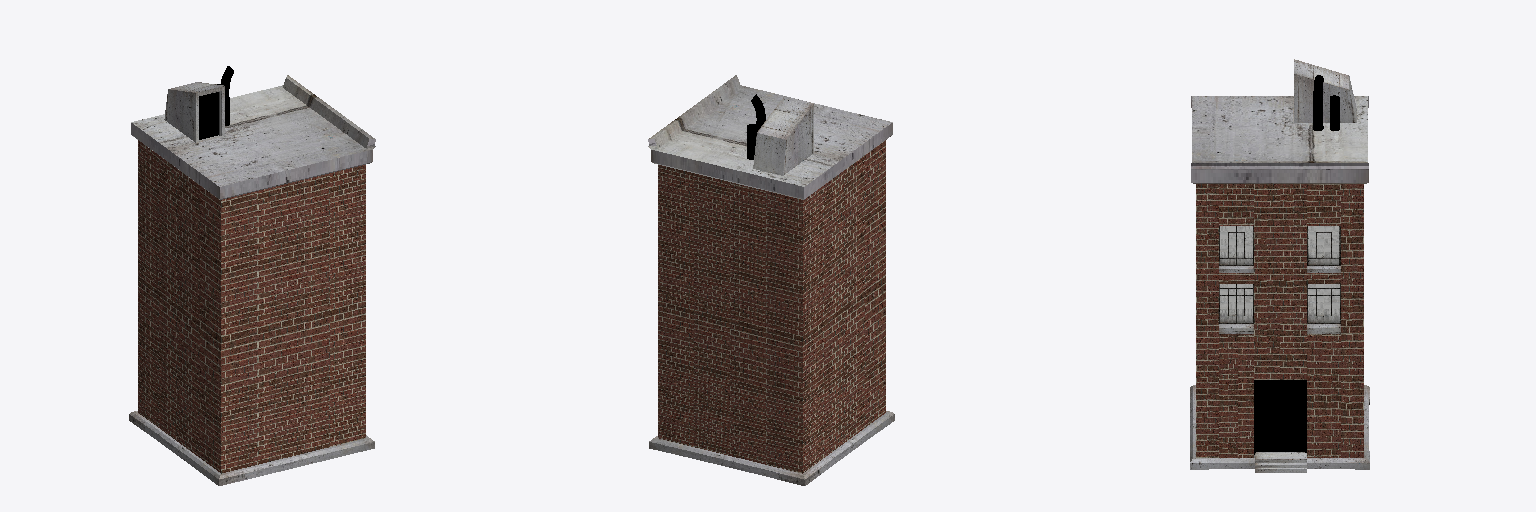
3 views of the same model, side by side, from view 1: azimuth 30°, elevation 25°; view 2: azimuth 150°, elevation 25°; view 3: azimuth 270°, elevation 25° (orthographic).
Parts seen in each view (by area): view 1: pCube26; view 2: pCube26; view 3: pCube26.
Part boxes in pixels (x1,y1,x2,y2): pCube26: (129,66,375,485); pCube26: (648,75,894,485); pCube26: (1190,59,1369,472).
Size of the model in its own units: 1.13 by 2.34 by 1.08.
Materials: 8 (3 with a texture image).